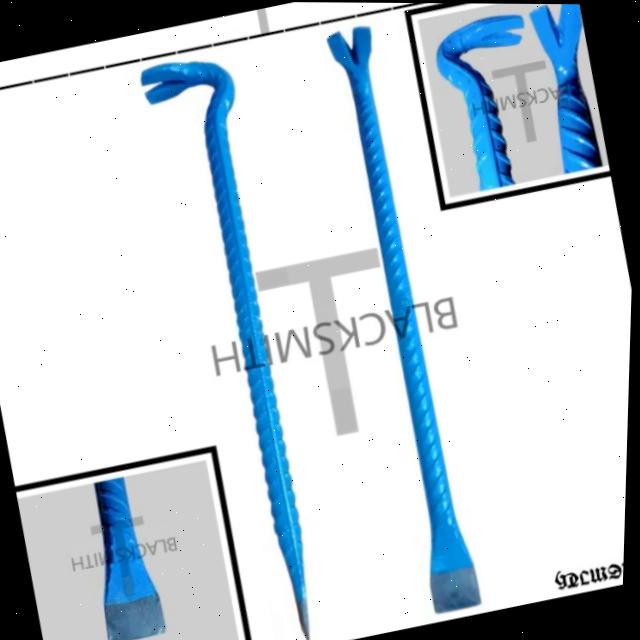crow bar: (143, 59, 323, 640), (323, 25, 489, 618)
